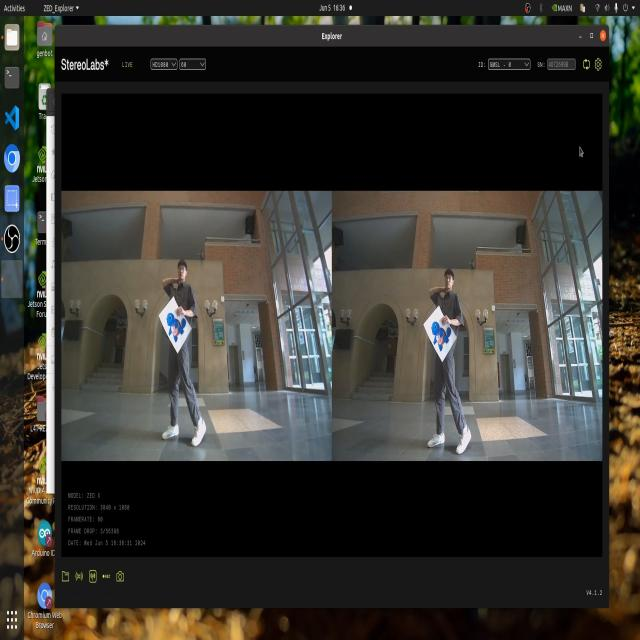blue: (427, 315, 461, 360), (163, 307, 191, 349)
